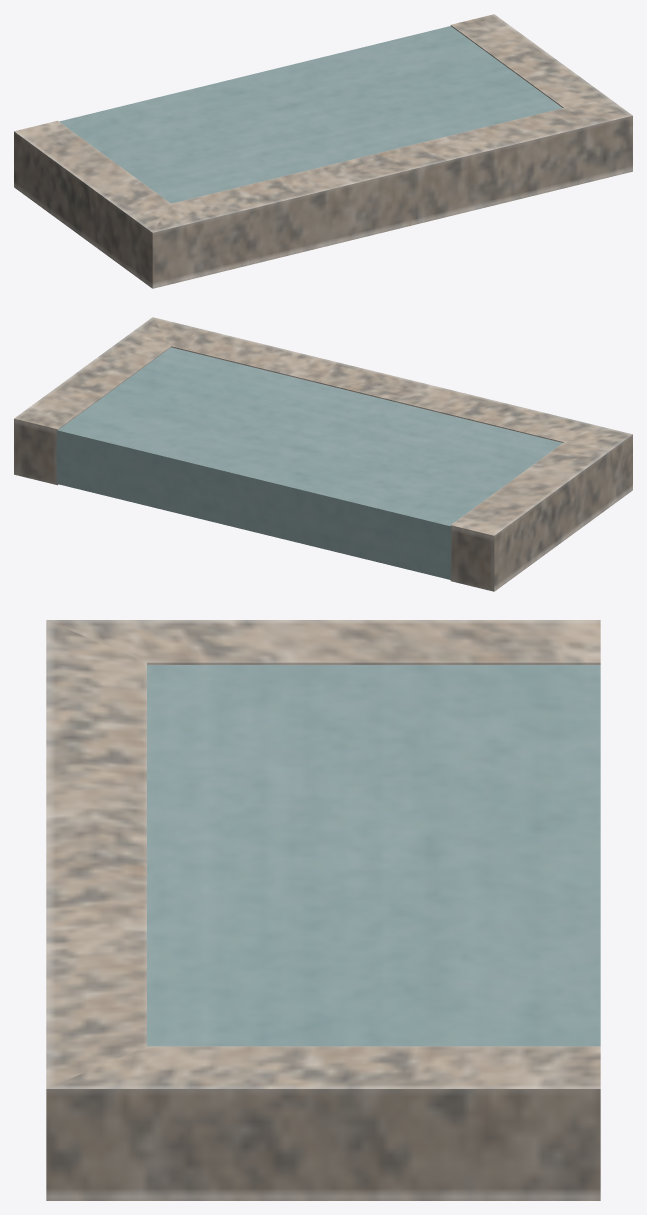
Rendered from set_base_a_04.fbx.
The picture shows the model from 3 angles, top to bottom: view 1: azimuth 30°, elevation 25°; view 2: azimuth 150°, elevation 25°; view 3: azimuth 270°, elevation 25°; orthographic projection. The views are drawn at different scales.
Visible parts, largest first — view 1: set_base_a_04; view 2: set_base_a_04; view 3: set_base_a_04.
Part boxes in pixels (x1,y1,x2,y2): set_base_a_04: (14, 14, 632, 288); set_base_a_04: (14, 317, 632, 591); set_base_a_04: (46, 620, 600, 1200).
Size of the model in its own units: 110 by 12.25 by 55.
